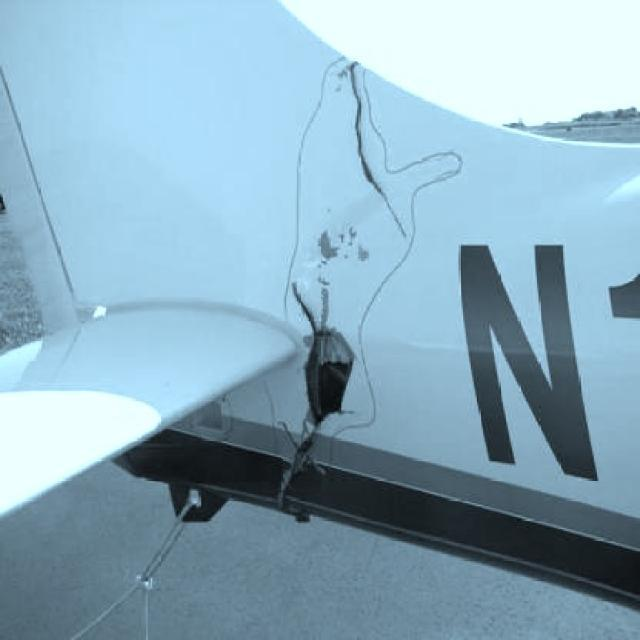crack: (337, 84, 403, 232)
